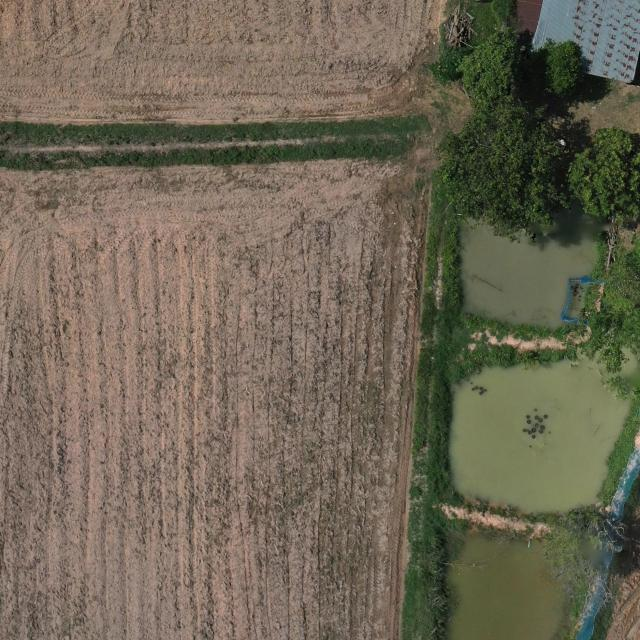Tree: (440, 110, 573, 244), (542, 504, 629, 605), (565, 125, 640, 226), (459, 29, 526, 100), (539, 36, 586, 103)
